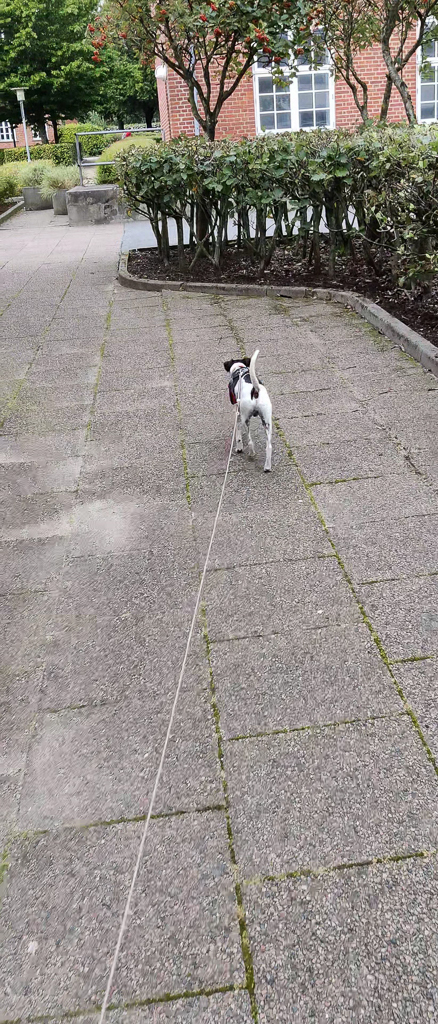Dog: (210, 339, 285, 483)
